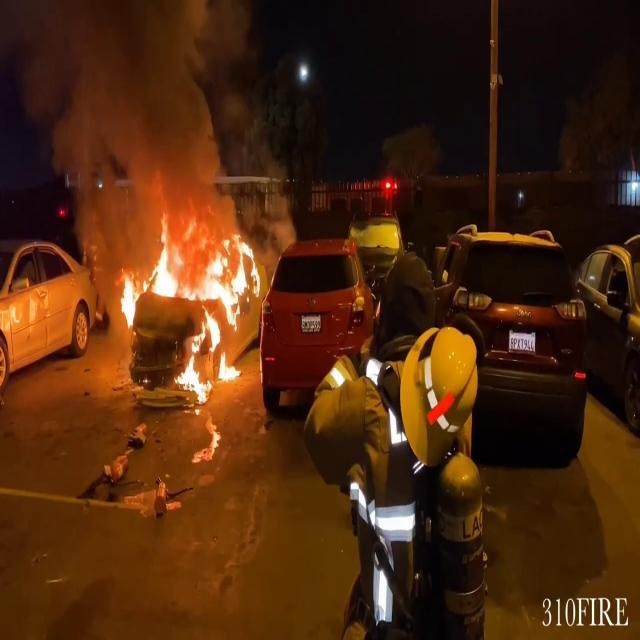Fire: (111, 210, 258, 386), (114, 269, 140, 329)
Smoke: (9, 0, 289, 218)
